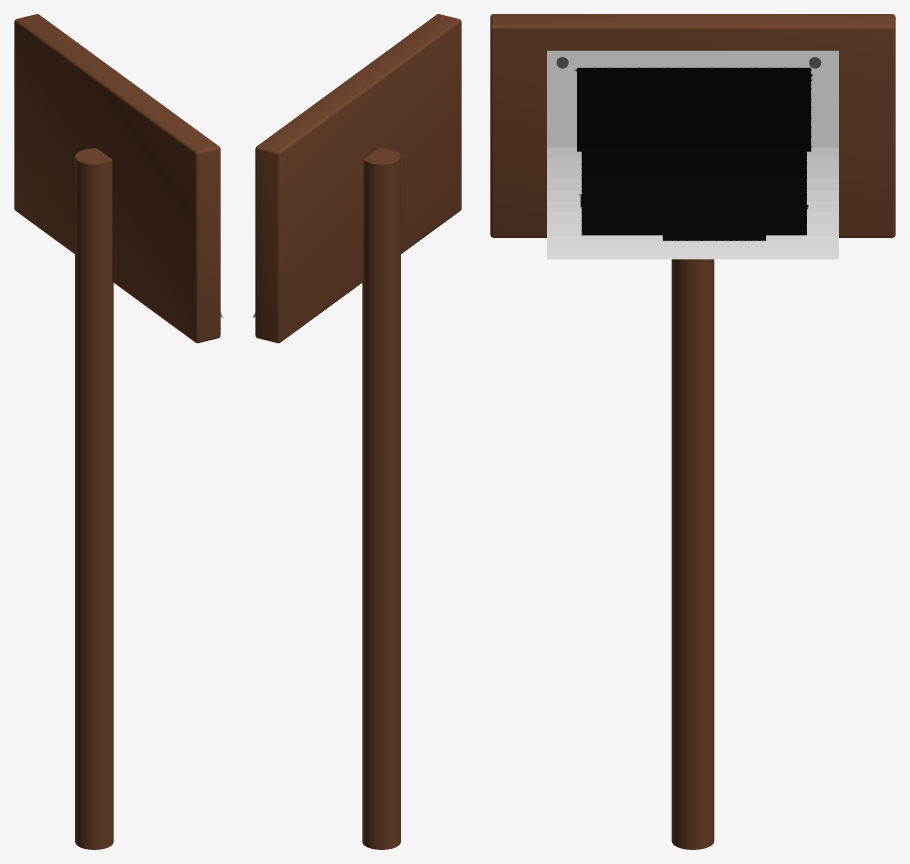
File: sign2.fbx
3 renders of one model, left to right at view 1: azimuth 30°, elevation 25°; view 2: azimuth 150°, elevation 25°; view 3: azimuth 270°, elevation 25°, orthographic. The views are drawn at different scales.
Parts seen in each view (by area): view 1: Cube, Cylinder; view 2: Cube, Cylinder; view 3: Plane_1_1, Cube, Cylinder.
Boxes of the visible parts, x1,y1,x2,y2 form: Cube: (14,14,220,343); Cylinder: (75,148,113,849); Cube: (255,14,461,343); Cylinder: (362,148,400,849); Plane_1_1: (547,51,838,259); Cube: (490,14,895,237); Cylinder: (671,259,714,849).
Size of the model in its own units: 30.69 by 276 by 122.
Materials: 4 (1 with a texture image).
